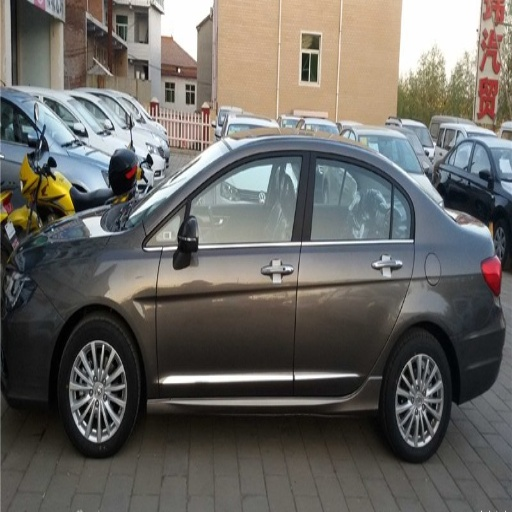back_bumper: (459, 334, 504, 383)
back_glass: (49, 97, 119, 125)
back_left_door: (294, 144, 415, 398)
front_left_door: (159, 144, 306, 393)
